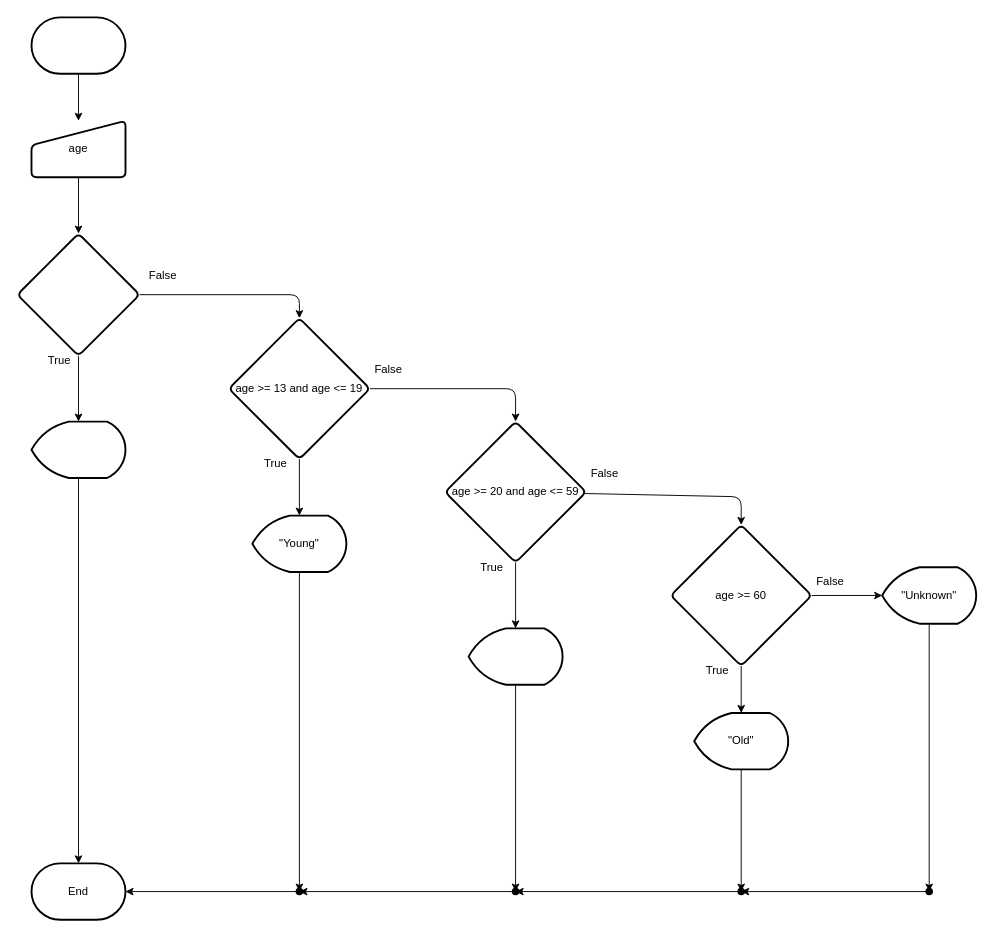
This 993x936 diagram has some shape labels left out. The shapes that lost their labels are listed below. From the top down, each one's box as (x1, y1, x2, y2) in pixels, then its label:
(30, 16, 126, 74): Start
(16, 232, 140, 356): age > 0 and age < 13
(30, 420, 126, 478): "Child"
(467, 627, 563, 685): "Adult"
